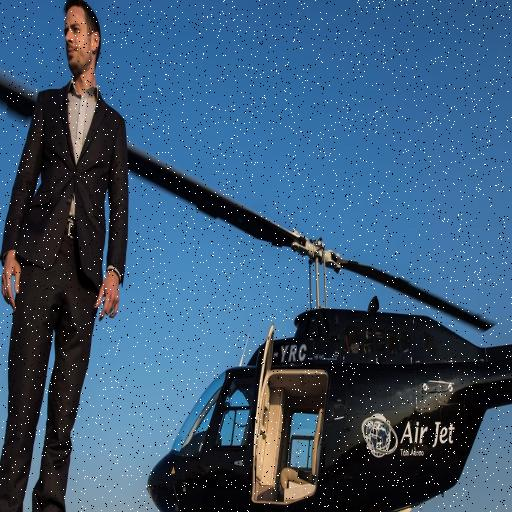helicopter: (1, 47, 512, 512)
